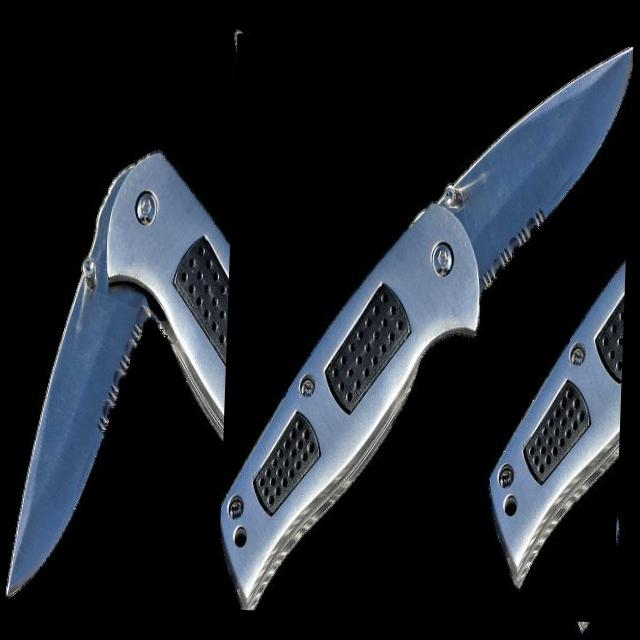Knife: (221, 48, 633, 610), (7, 153, 350, 594)
